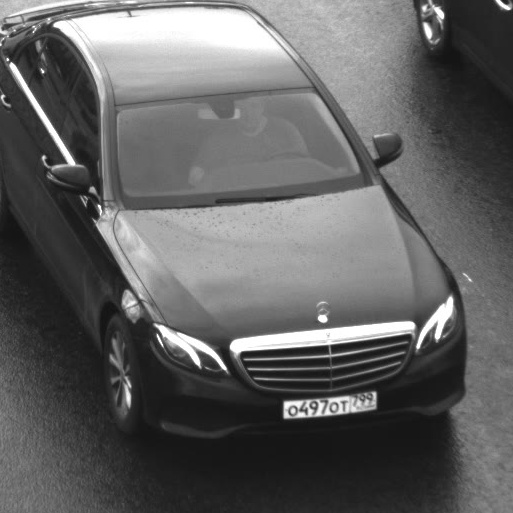plate: (271, 380, 387, 427)
